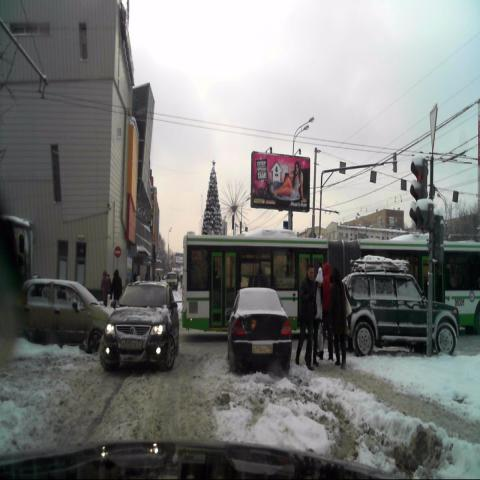2_4: (429, 103, 438, 154)
